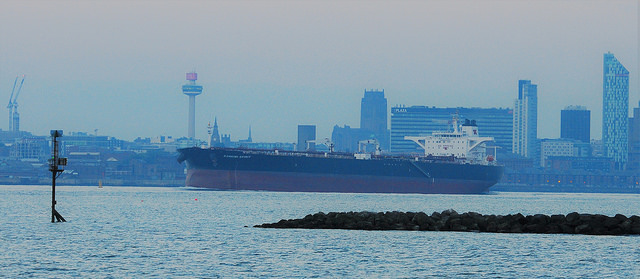tanker: (177, 123, 503, 196)
